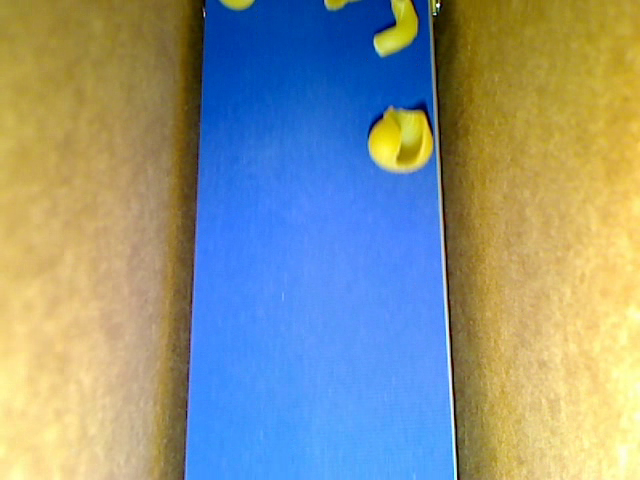elbow: (373, 1, 419, 58)
shell: (366, 105, 433, 173)
